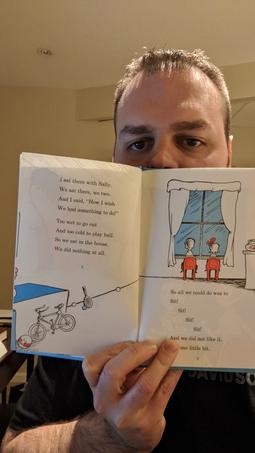text block: (42, 169, 125, 260), (159, 279, 244, 361)
